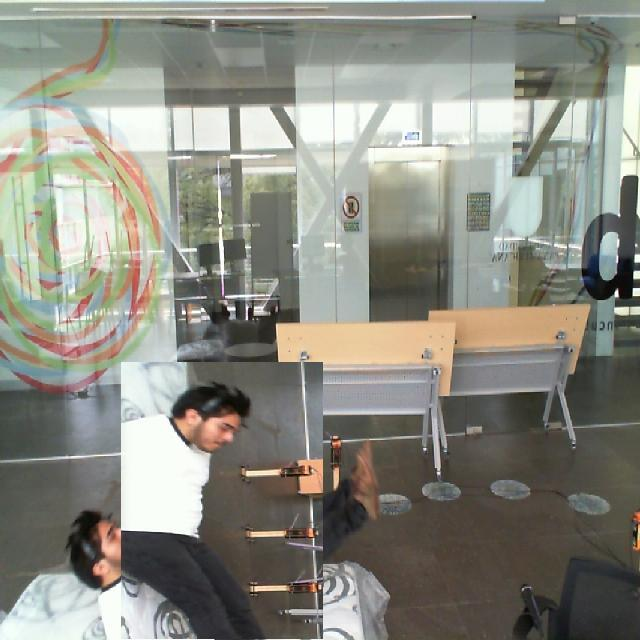Fall: (129, 374, 329, 640)
